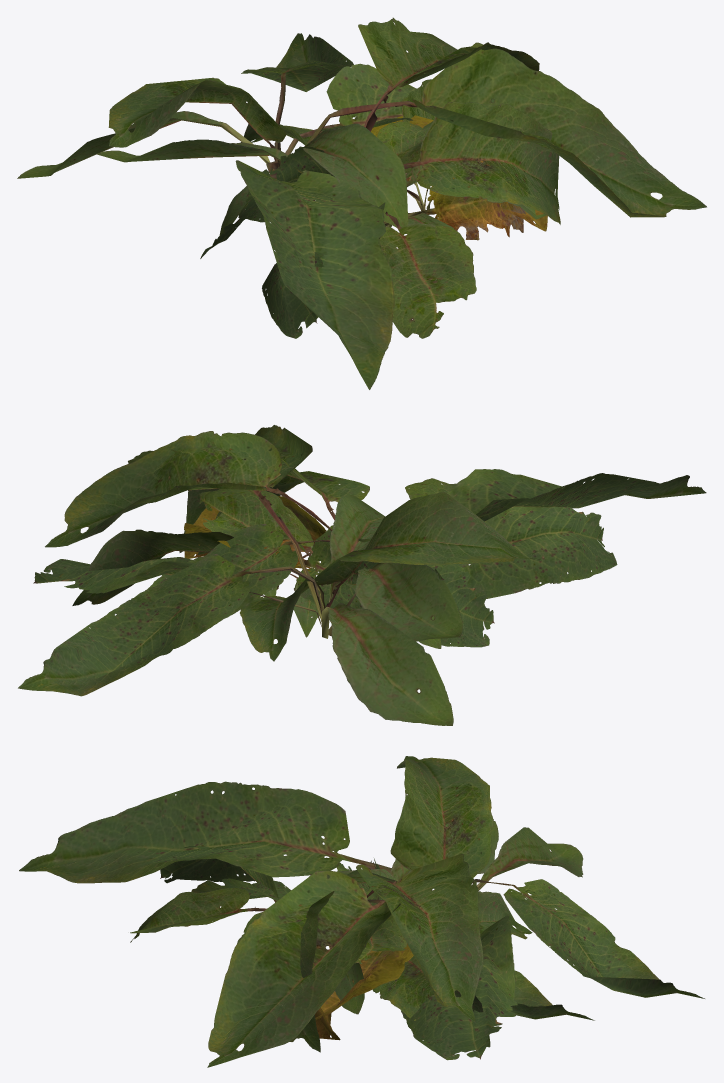
The model's file is weed_plant_02.glb.
3 renders of one model, top to bottom at view 1: azimuth 30°, elevation 25°; view 2: azimuth 150°, elevation 25°; view 3: azimuth 270°, elevation 25°, orthographic. The views are drawn at different scales.
Parts seen in each view (by area): view 1: plant_0, plant_1, plant_2, plant_4, plant_3; view 2: plant_0, plant_1, plant_2, plant_3, plant_4; view 3: plant_0, plant_1, plant_2, plant_3.
Part boxes in pixels (x1,y1,x2,y2): plant_0: [17, 33, 706, 389]; plant_1: [96, 17, 539, 338]; plant_2: [219, 101, 560, 328]; plant_4: [238, 146, 546, 222]; plant_3: [200, 79, 480, 260]; plant_0: [18, 425, 706, 725]; plant_1: [45, 431, 617, 641]; plant_2: [179, 458, 567, 661]; plant_3: [72, 511, 494, 647]; plant_4: [264, 525, 444, 608]; plant_0: [19, 756, 704, 1067]; plant_1: [130, 819, 594, 1040]; plant_2: [191, 878, 532, 1052]; plant_3: [335, 864, 490, 1047].
Size of the model in its own units: 0.2193 by 0.0725 by 0.2909.
1 material, 1 textured.
